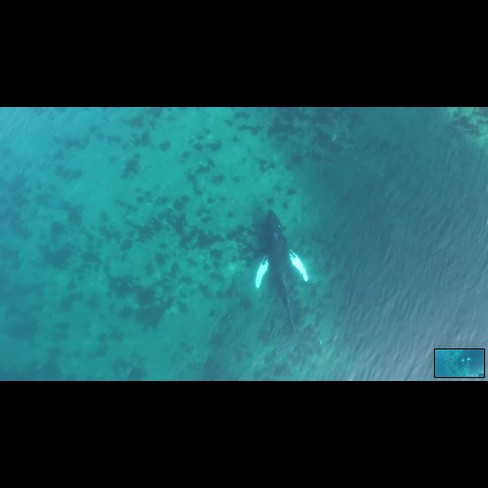hump: (242, 206, 323, 363)
